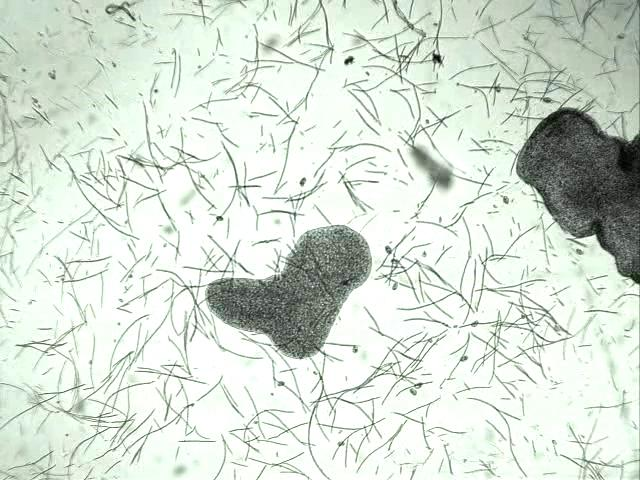Placozoan: (204, 224, 372, 360), (517, 107, 640, 285)
